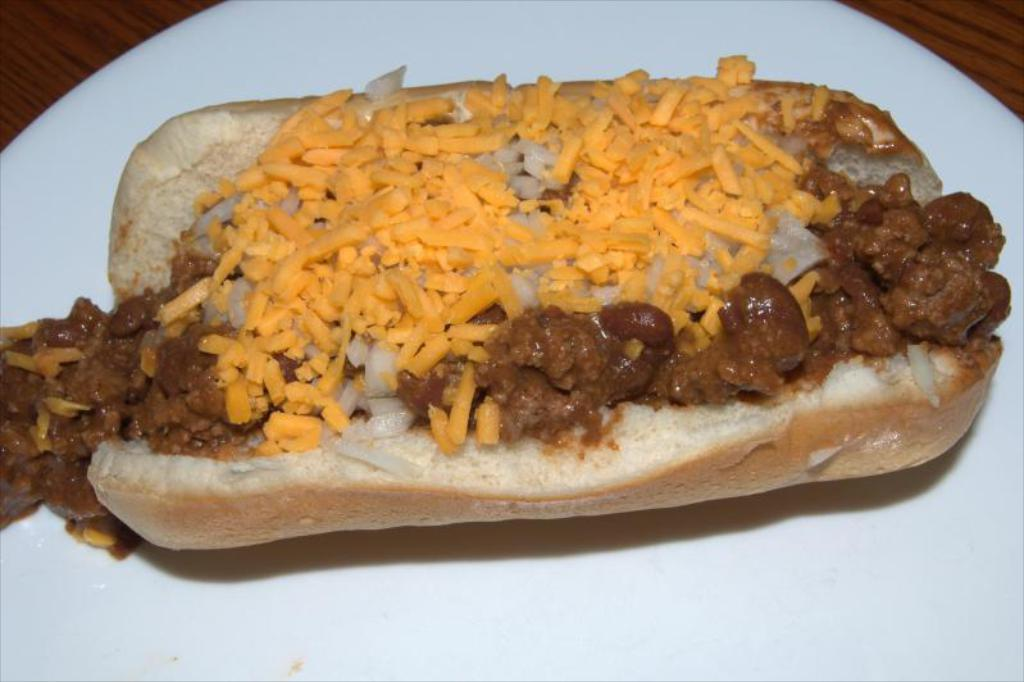hot_dog: (3, 54, 1016, 542)
